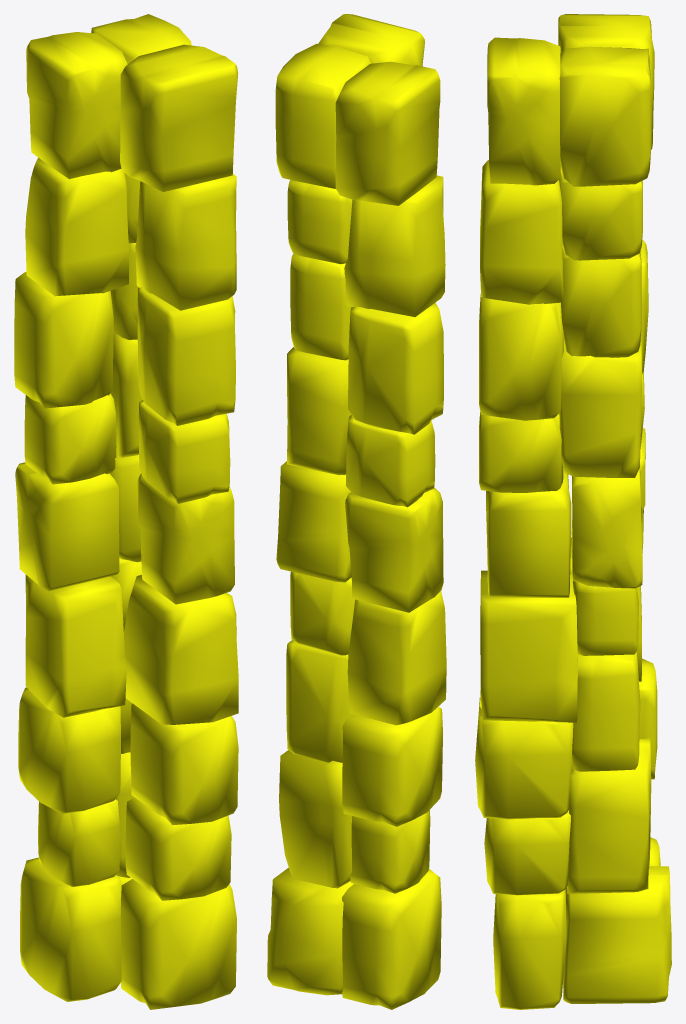
File: Corner_Exterior_Brick.glb
The picture shows the model from 3 angles, left to right: view 1: azimuth 30°, elevation 25°; view 2: azimuth 150°, elevation 25°; view 3: azimuth 270°, elevation 25°; orthographic projection. The views are drawn at different scales.
Visible parts, largest first — view 1: Corner_Exterior_Brick; view 2: Corner_Exterior_Brick; view 3: Corner_Exterior_Brick.
Boxes of the visible parts, bbox=[...] form: Corner_Exterior_Brick: bbox=[14, 14, 238, 1009]; Corner_Exterior_Brick: bbox=[267, 14, 446, 1009]; Corner_Exterior_Brick: bbox=[475, 14, 671, 1009].
Size of the model in its own units: 0.5307 by 3.02 by 0.5758.
Materials: 1 (1 with a texture image).
